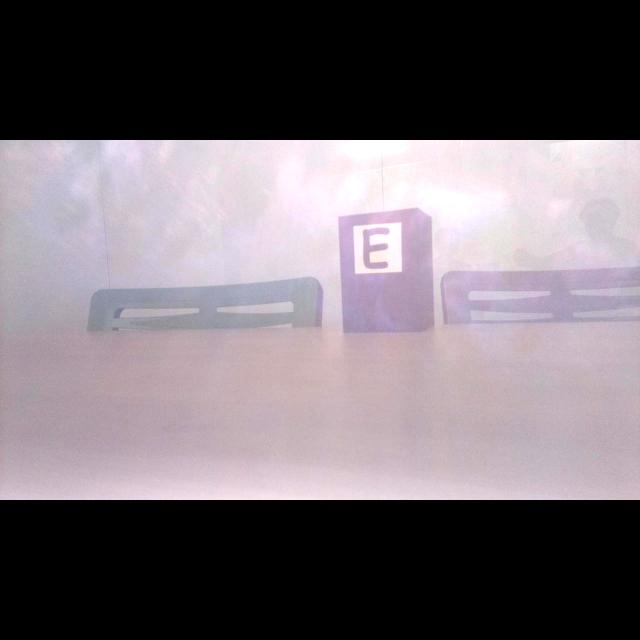E: (363, 227, 390, 269)
